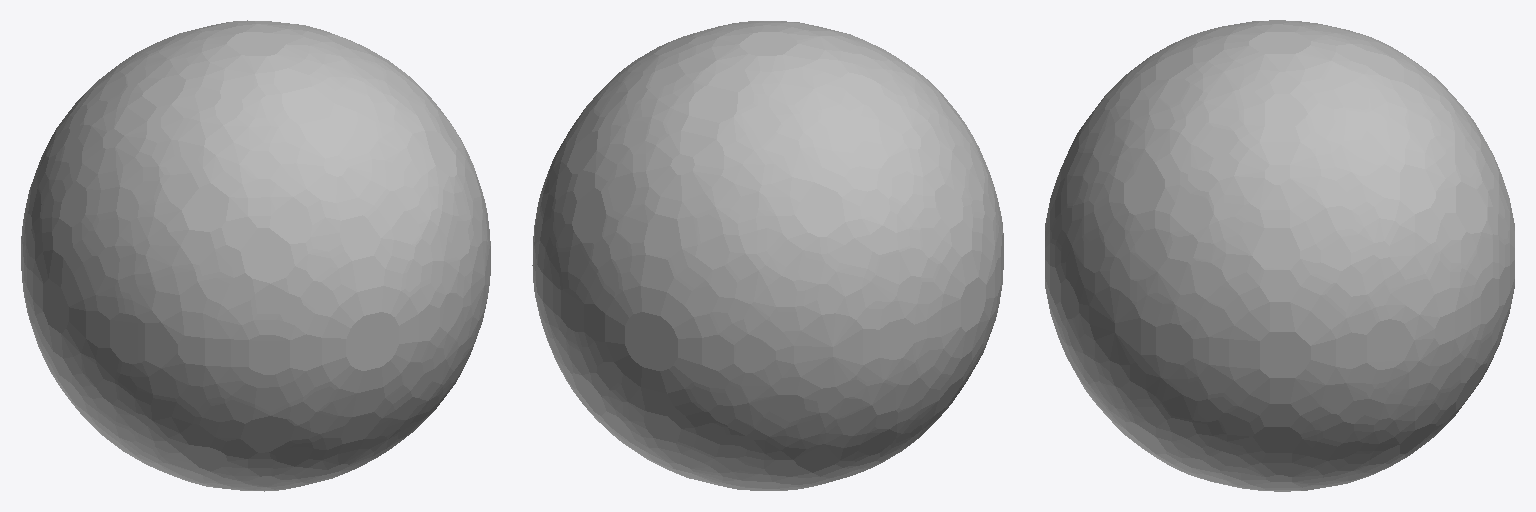
URDF robot description (root):
<robot name="root">
  <link name="link_coacd_convex_piece_0">
    <inertial>
      <origin xyz="0 0 0" rpy="0 0 0"/>
      <inertia ixx="1.48E+00" ixy="-7.97E-04" ixz="-7.52E-04" iyy="1.48E+00" iyz="-7.47E-04" izz="1.48E+00"/>
    </inertial>
    <visual>
      <origin xyz="0 0 0" rpy="0 0 0"/>
      <geometry>
        <mesh filename="coacd_convex_piece_0.obj" scale="1.0000E+00 1.0000E+00 1.0000E+00"/>
      </geometry>
      <material name="">
        <color rgba="7.50E-01 7.50E-01 7.50E-01 1"/>
      </material>
    </visual>
    <collision>
      <origin xyz="0 0 0" rpy="0 0 0"/>
      <geometry>
        <mesh filename="coacd_convex_piece_0.obj" scale="1.0000E+00 1.0000E+00 1.0000E+00"/>
      </geometry>
    </collision>
  </link>
</robot>

--- Render facts (derived) ---
3 views of the same robot in one strip: view 1: azimuth 30°, elevation 25°; view 2: azimuth 150°, elevation 25°; view 3: azimuth 270°, elevation 25° (orthographic).
Model root with 1 links and 0 joints (none), rooted at link_coacd_convex_piece_0, posed every joint at zero.
Visible links, largest first — view 1: link_coacd_convex_piece_0; view 2: link_coacd_convex_piece_0; view 3: link_coacd_convex_piece_0.
Boxes of the visible links, bbox=[...] form: link_coacd_convex_piece_0: bbox=[21, 20, 490, 491]; link_coacd_convex_piece_0: bbox=[532, 21, 1003, 490]; link_coacd_convex_piece_0: bbox=[1045, 20, 1514, 491].
Size in the robot's own frame: 1.96 by 1.96 by 1.96 metres.
1 mesh visuals loaded from 1 distinct referenced files (1 OBJ).
